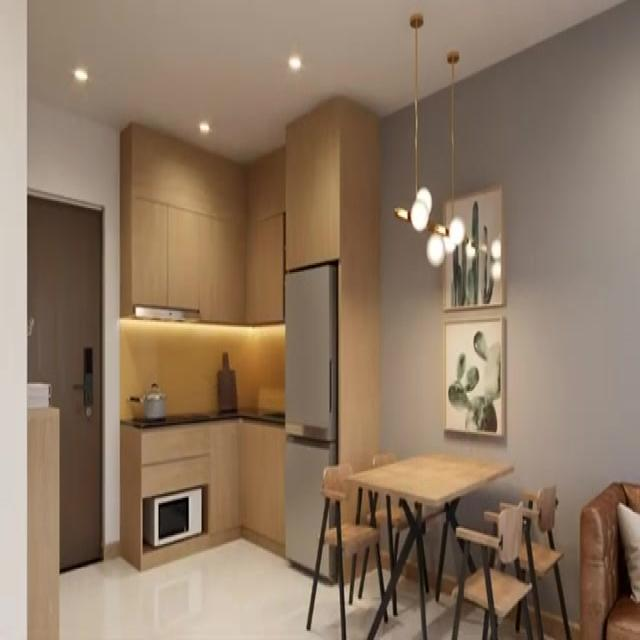door: (27, 190, 103, 571)
obstacle: (345, 452, 514, 638), (283, 260, 339, 583), (304, 462, 387, 640), (479, 480, 571, 640), (450, 501, 538, 640), (578, 480, 639, 638)
